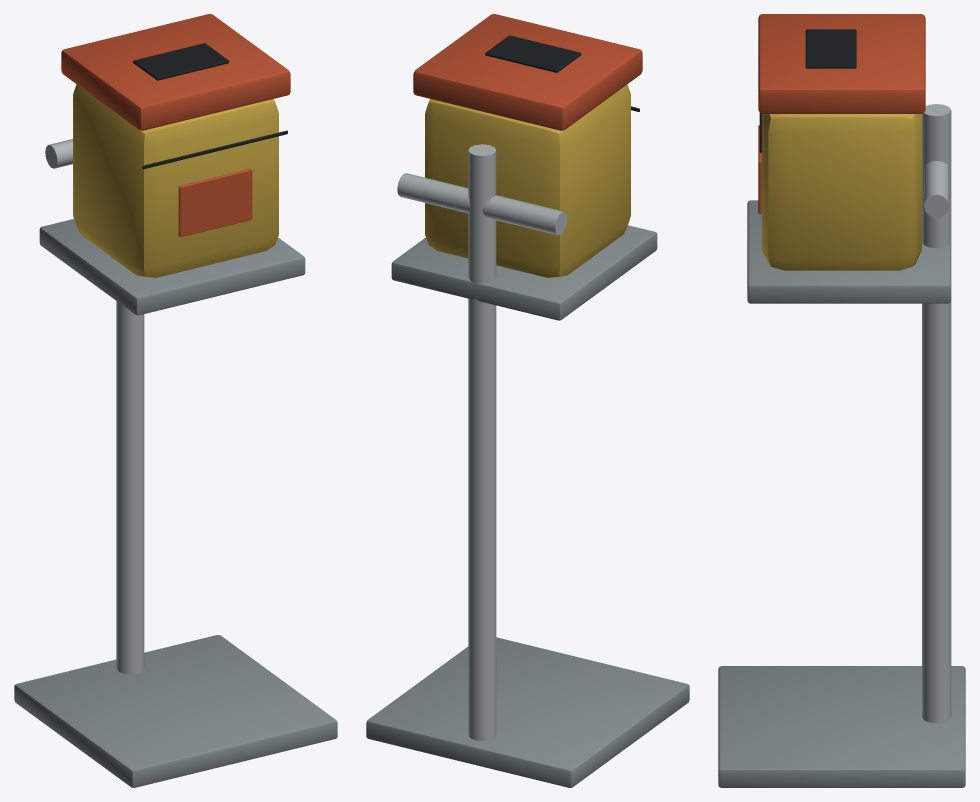
Rendered from sharps-bin.glb.
3 views of the same model, side by side, from view 1: azimuth 30°, elevation 25°; view 2: azimuth 150°, elevation 25°; view 3: azimuth 270°, elevation 25° (orthographic). The views are drawn at different scales.
Parts seen in each view (by area): view 1: sharps-bin; view 2: sharps-bin; view 3: sharps-bin.
Part boxes in pixels (bbox=[...]): sharps-bin: bbox=[14, 14, 337, 787]; sharps-bin: bbox=[366, 14, 689, 787]; sharps-bin: bbox=[718, 14, 965, 787].
Size of the model in its own units: 0.34 by 1.05 by 0.34.
